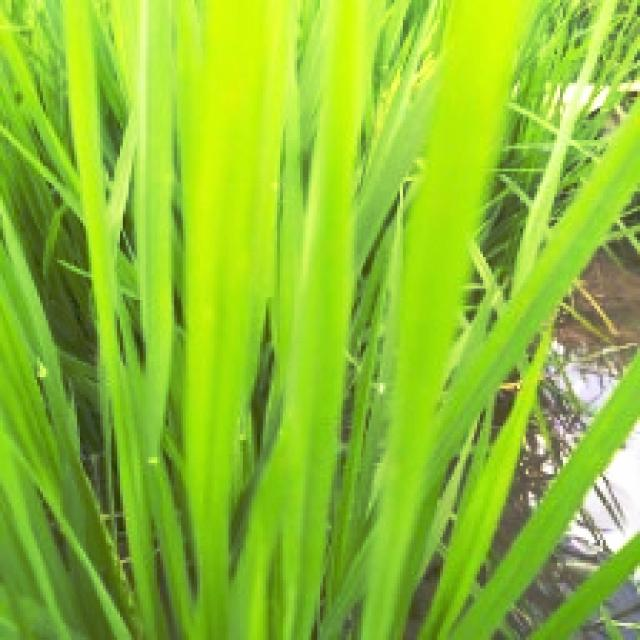health: (157, 0, 359, 640)
